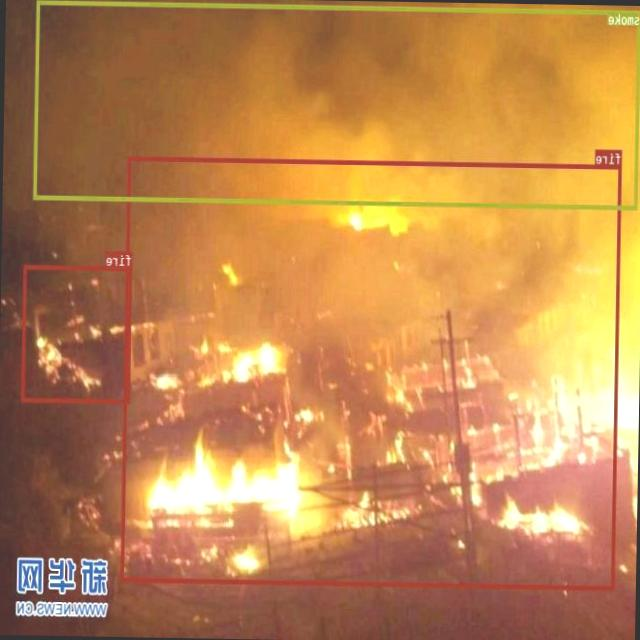fire: (120, 156, 622, 590), (22, 264, 132, 403)
smoke: (34, 0, 640, 209)
